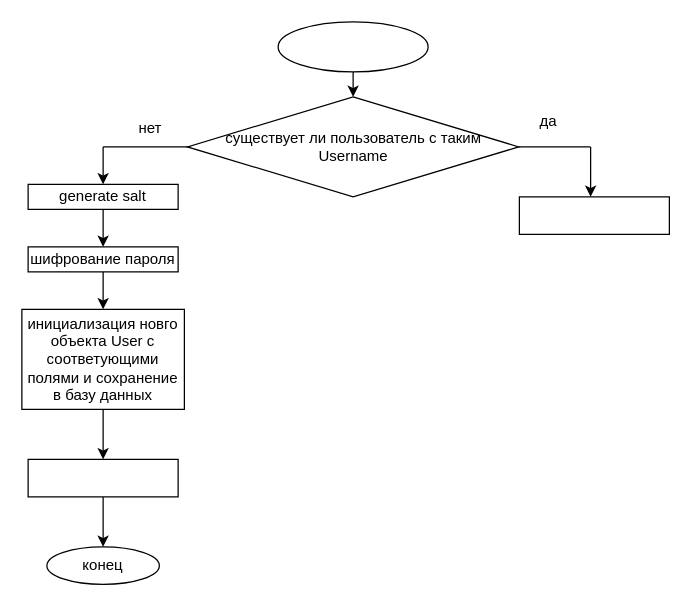
The diagram is 691 pixels wide and 606 high, and some of its shapes have lost their labels. Each missing label, with the centre of its shape:
"return false" goes at (593,215).
"return true" goes at (102,477).
"начало" goes at (352,46).
